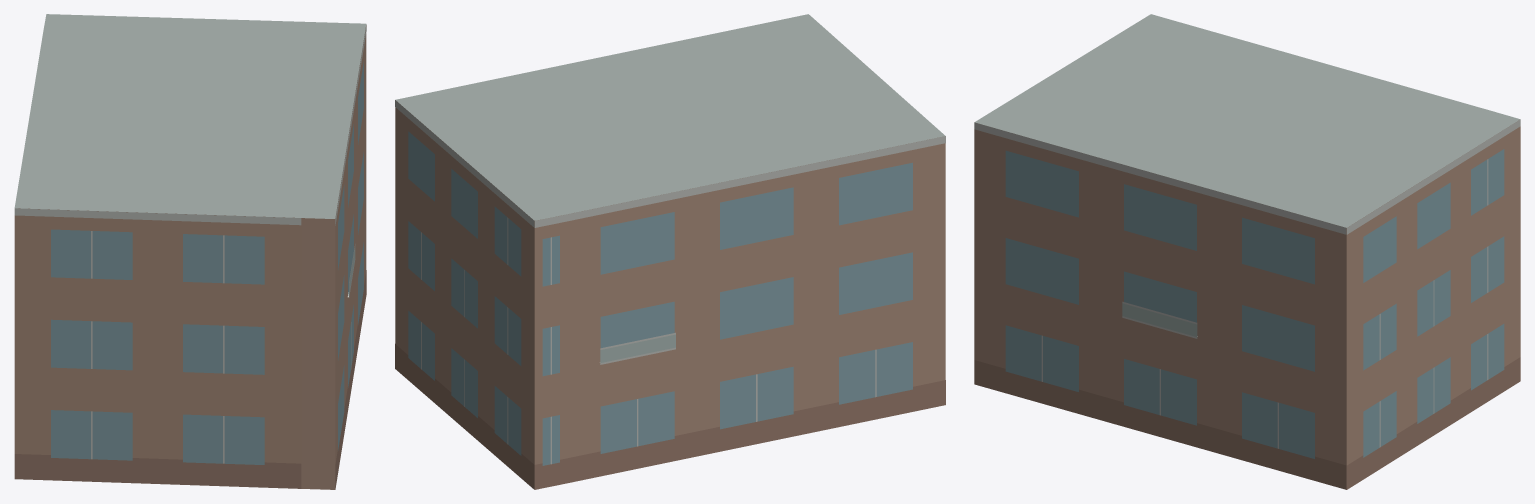
The model's file is survey-upis-32704763.glb.
3 views of the same model, side by side, from view 1: azimuth 30°, elevation 25°; view 2: azimuth 150°, elevation 25°; view 3: azimuth 270°, elevation 25° (orthographic). The views are drawn at different scales.
Visible parts, largest first — view 1: survey-upis-32704763.tmp; view 2: survey-upis-32704763.tmp; view 3: survey-upis-32704763.tmp.
Boxes of the visible parts, x1=… form: survey-upis-32704763.tmp: x1=14, y1=14, x2=366, y2=489; survey-upis-32704763.tmp: x1=395, y1=14, x2=945, y2=489; survey-upis-32704763.tmp: x1=974, y1=14, x2=1520, y2=489.
Bounding box in the file's own units: 16.03 × 9.15 × 17.3.
